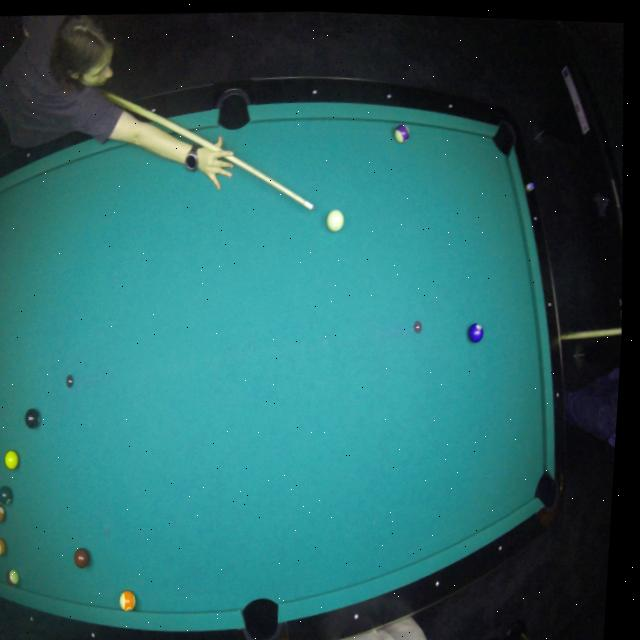cue ball: (323, 206, 347, 234)
other: (463, 319, 486, 350), (392, 120, 412, 145), (118, 589, 138, 613), (23, 407, 42, 430), (72, 546, 90, 570), (4, 448, 22, 471), (4, 567, 20, 588), (0, 484, 13, 505), (0, 535, 7, 557), (0, 502, 6, 524)
